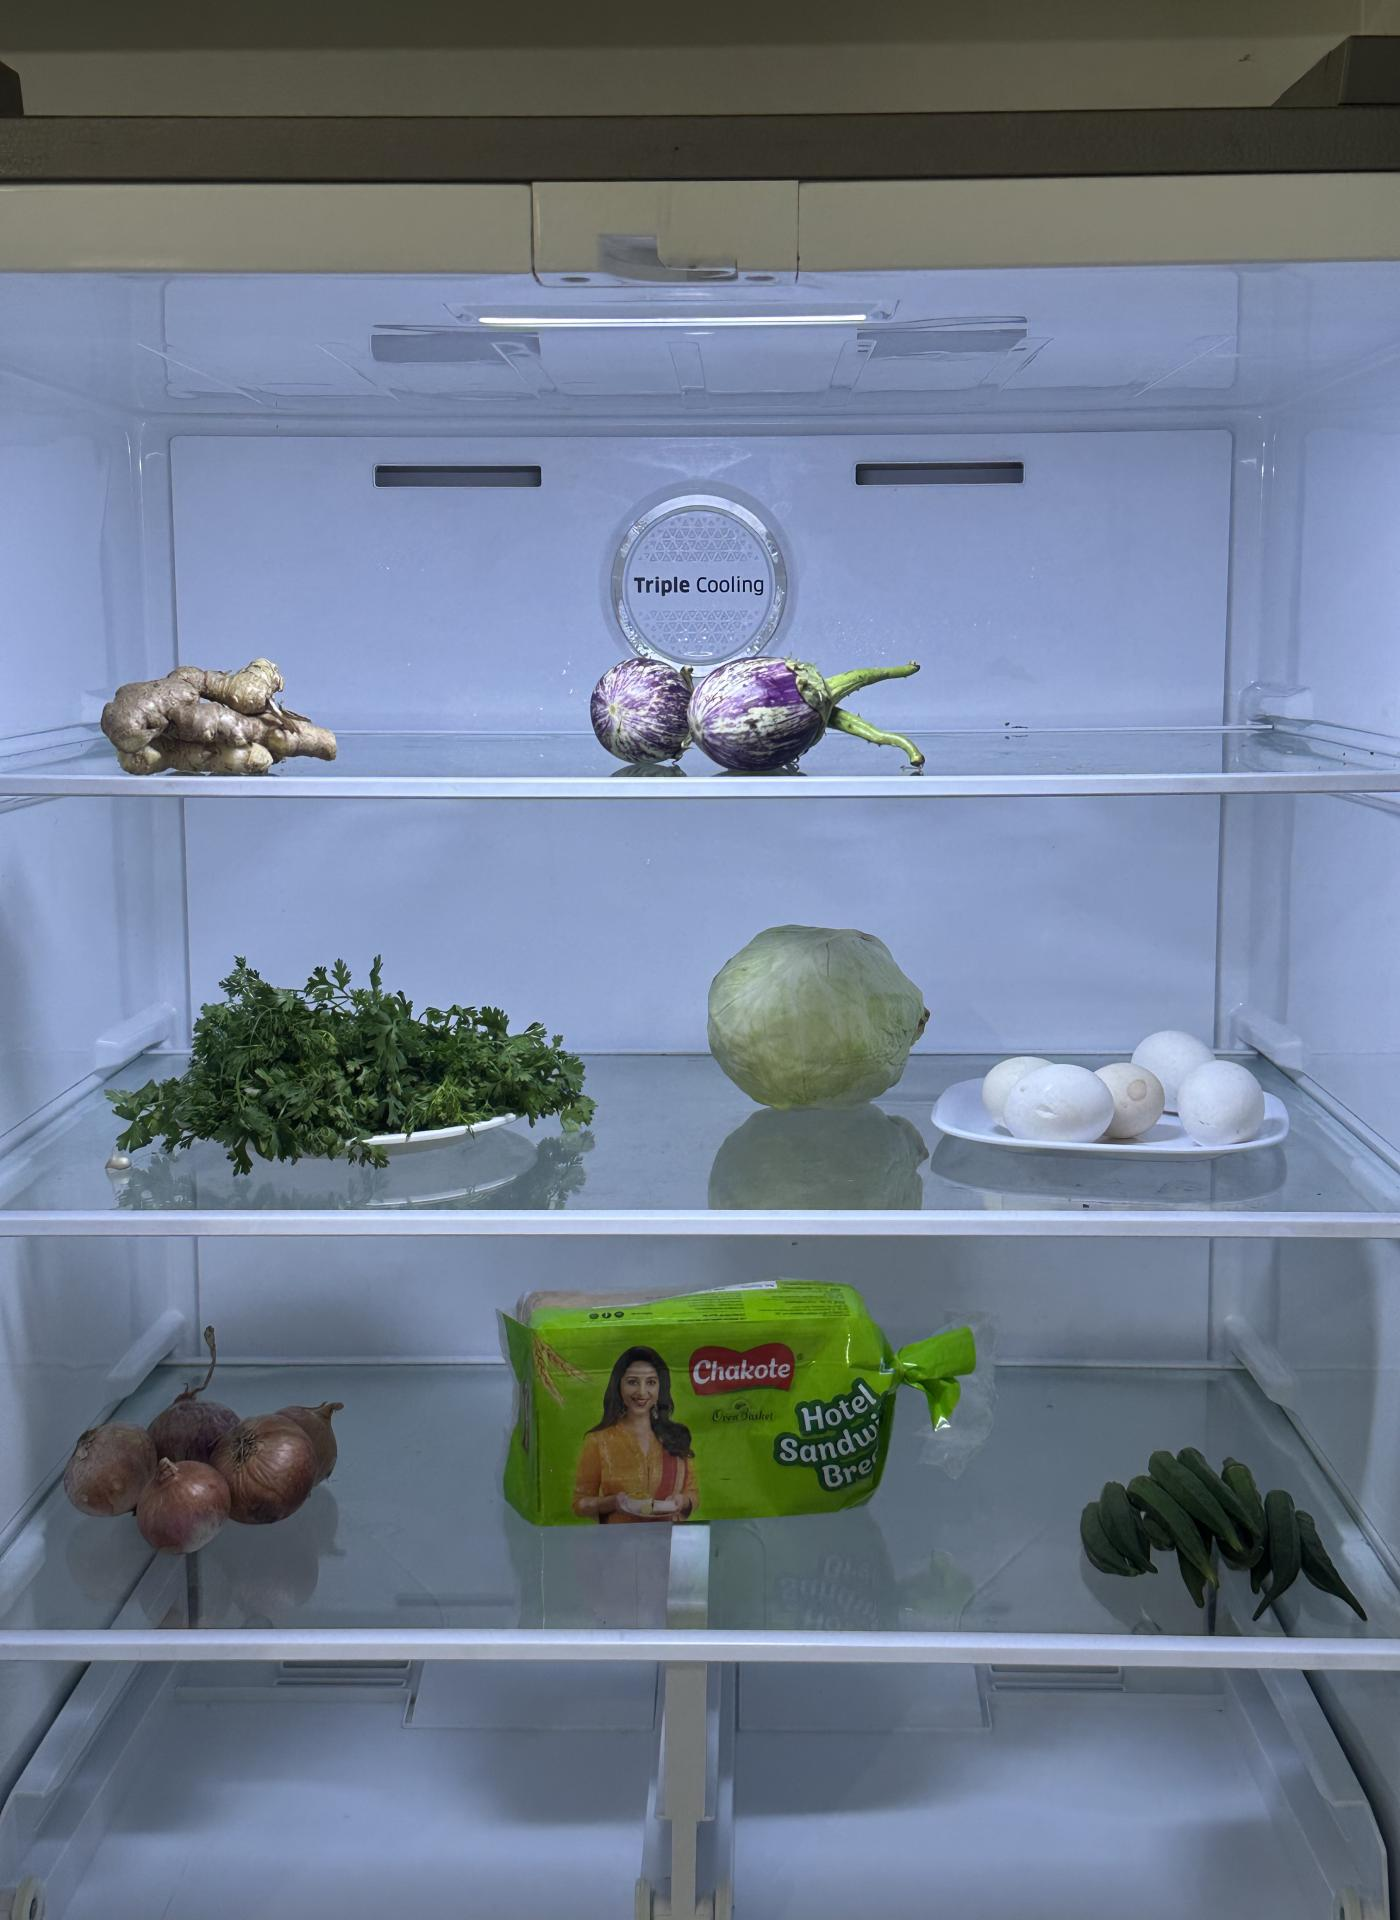bread: (483, 1282, 935, 1526)
cabbage: (710, 906, 939, 1127)
coriander: (149, 939, 562, 1164)
egg: (965, 1035, 1296, 1164)
ginger: (103, 644, 355, 792)
okra: (1051, 1439, 1372, 1622)
onion: (52, 1358, 343, 1561)
